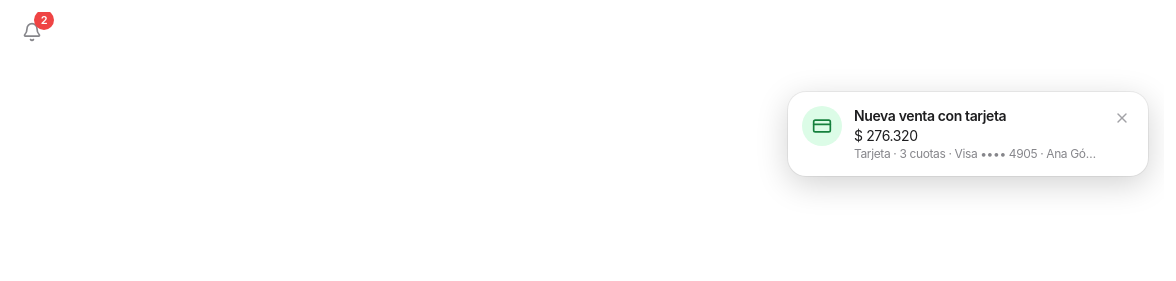
Test: campanita de ventas nuevas › cuenta las nuevas, avisa la que entra con el panel abierto y se limpia al verlas
This screenshot has width=1176, height=281.
Later steps or results of the test are not shown.
expect the button named "2 ventas nuevas" is shown: met, box [12, 12, 52, 52]
expect the message shows "Nueva venta con tarjeta": met, box [854, 106, 1098, 162]
Click the button named "Cerrar aviso". click: (1122, 118)
box: [1110, 106, 1134, 130]
Wait 30000 ms
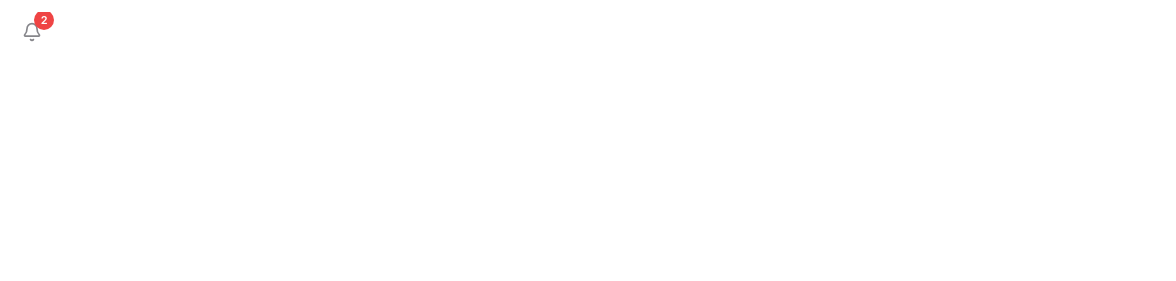
expect the message is gone: met
Click the button named "2 ventas nuevas". click: (32, 32)
box: [12, 12, 52, 52]
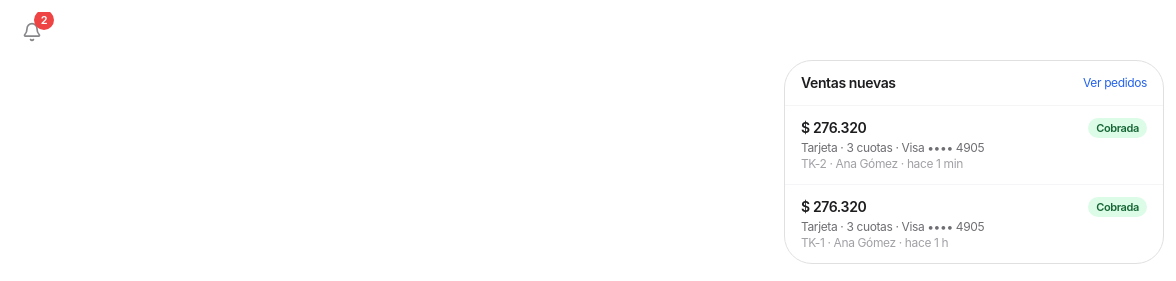
expect the text "TK-2 · Ana Gómez · hace 1 min" is shown: met, box [801, 156, 963, 171]
